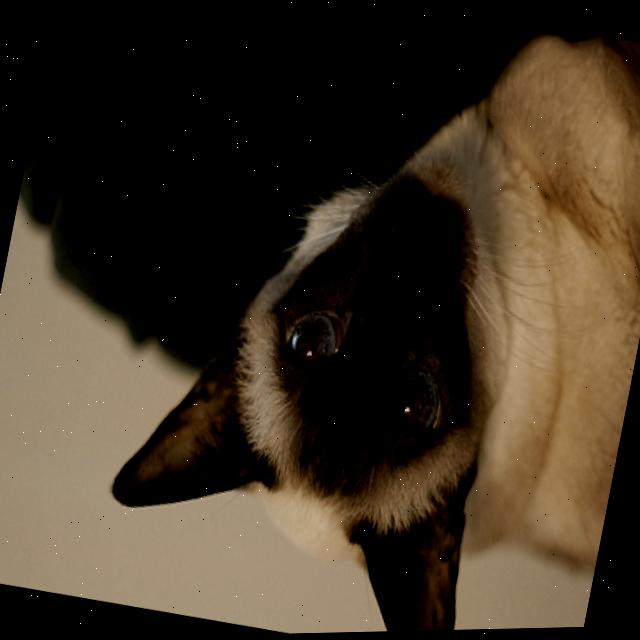Siamese: (85, 0, 640, 639)
